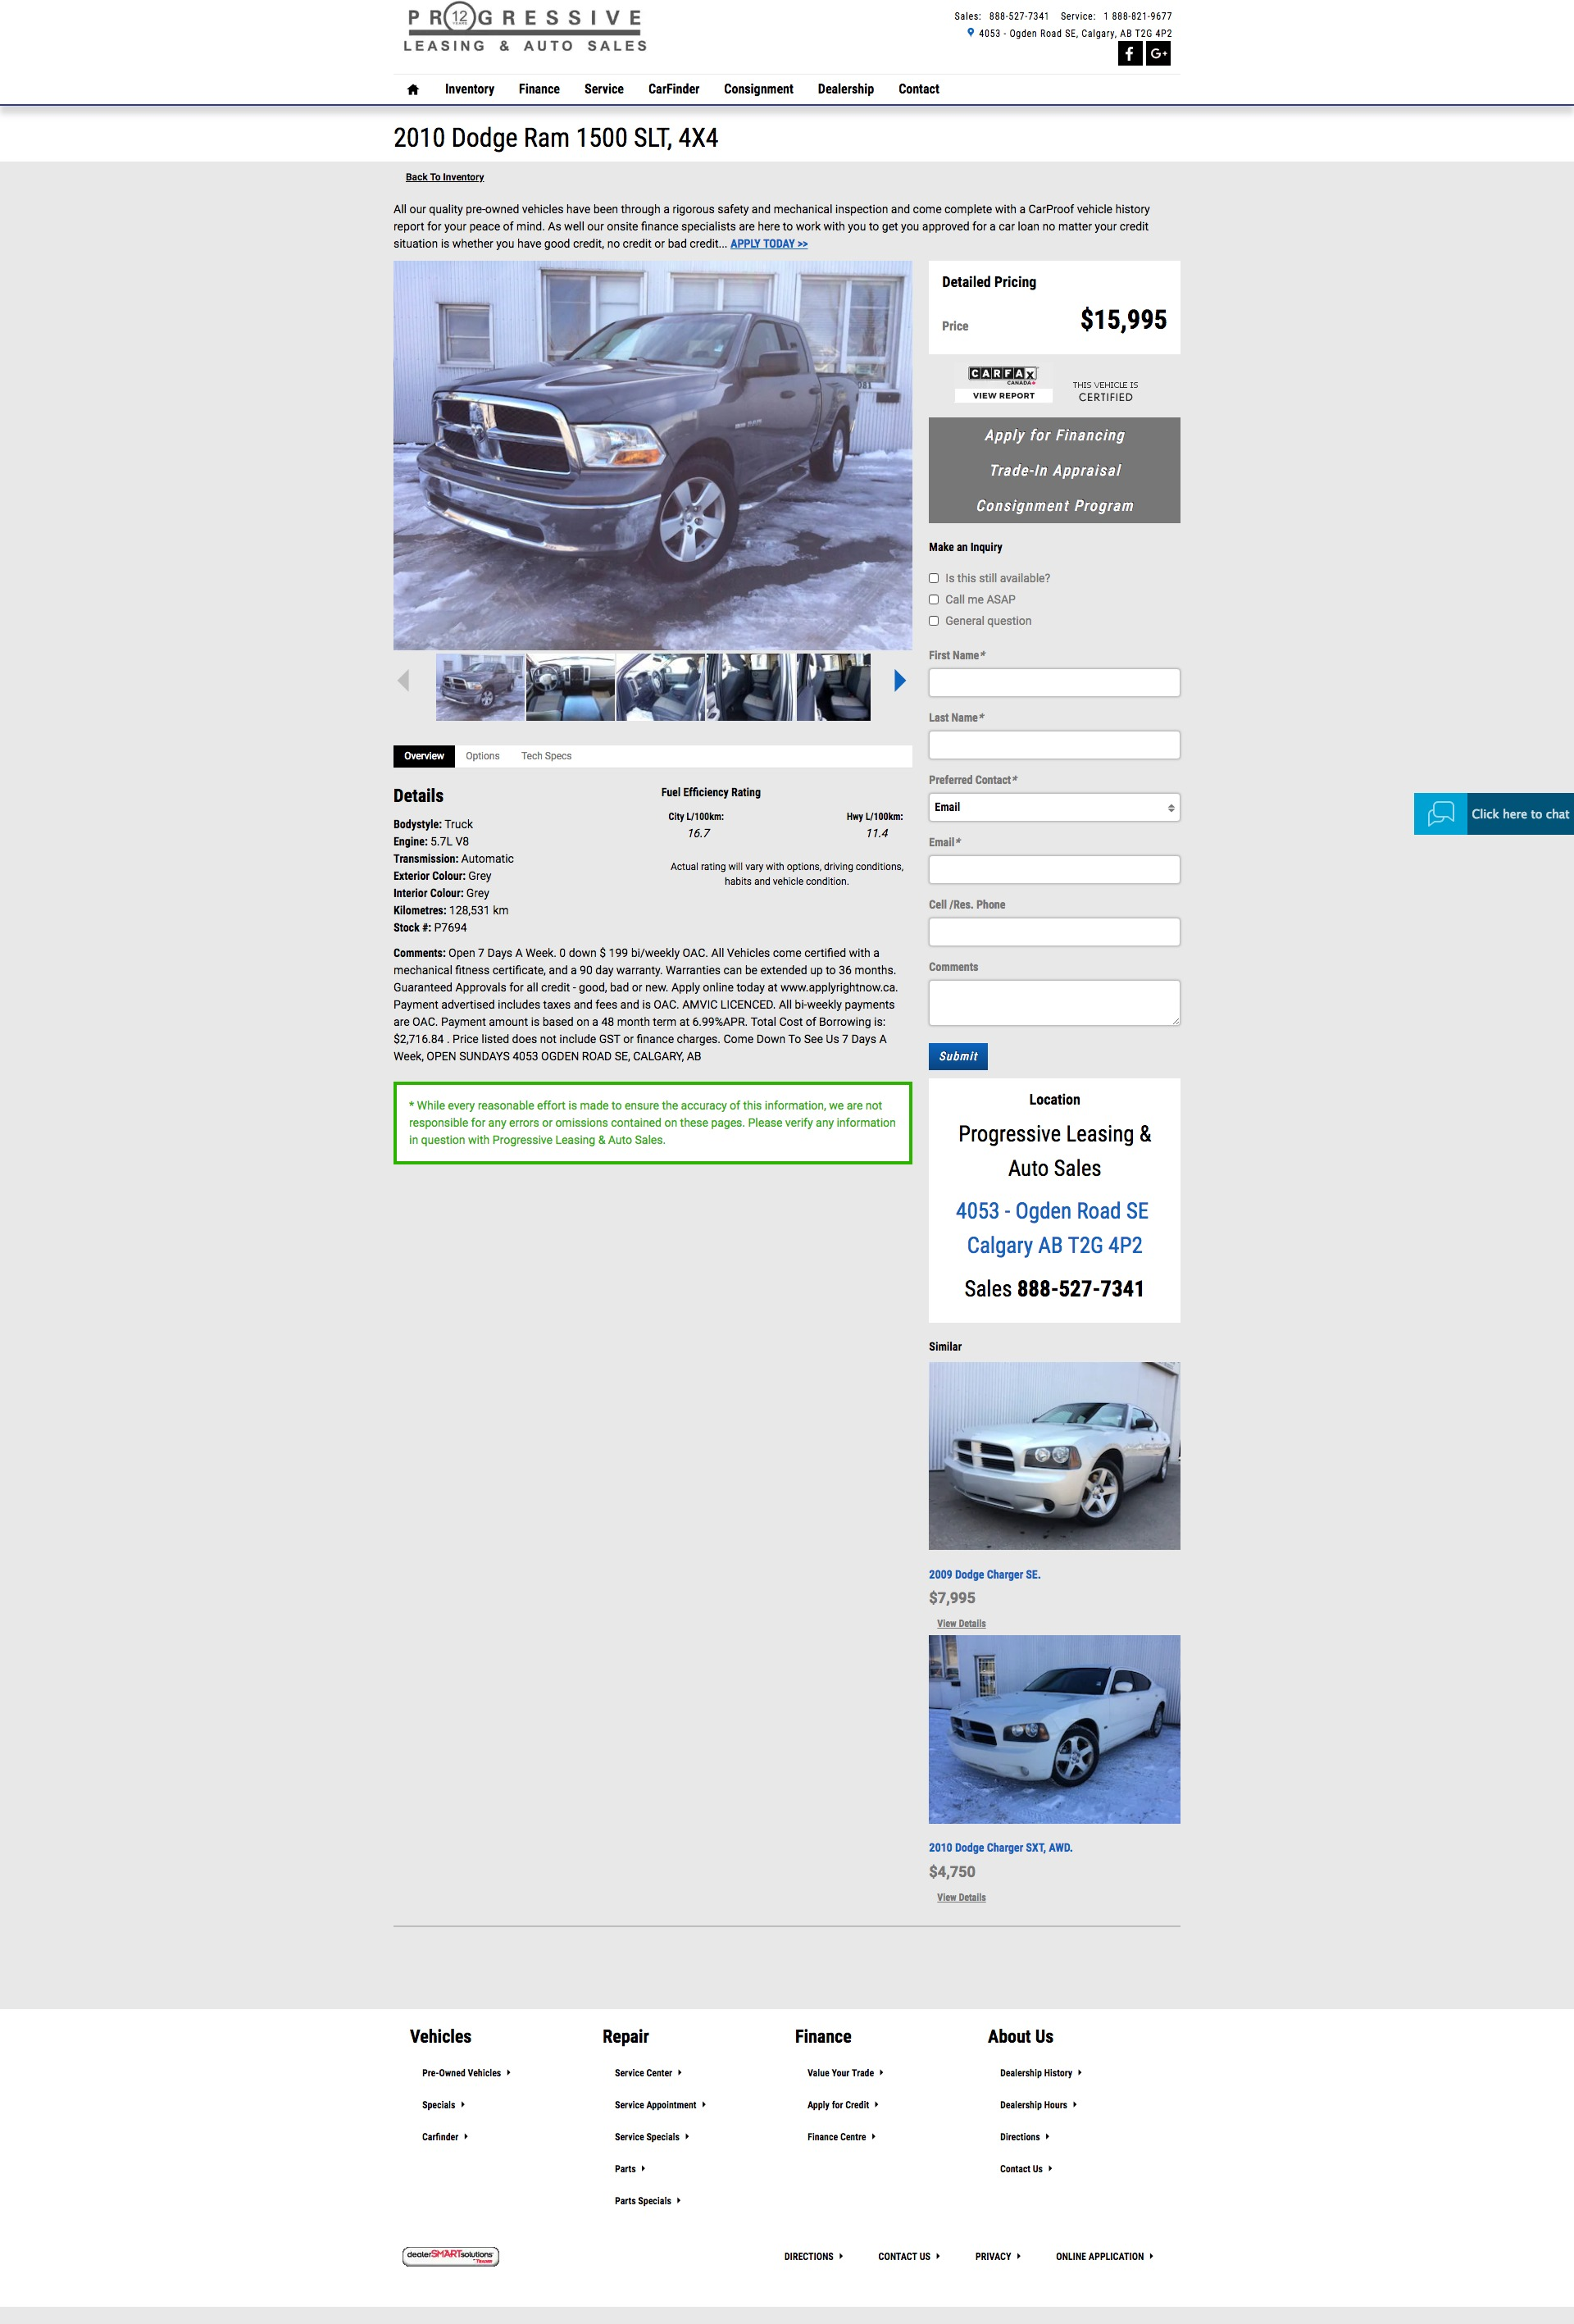car: (894, 669, 908, 694)
